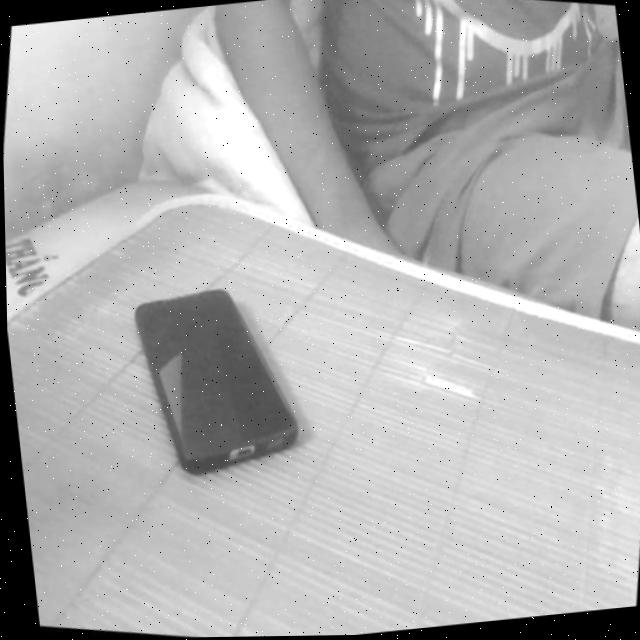phone: (76, 241, 350, 531)
